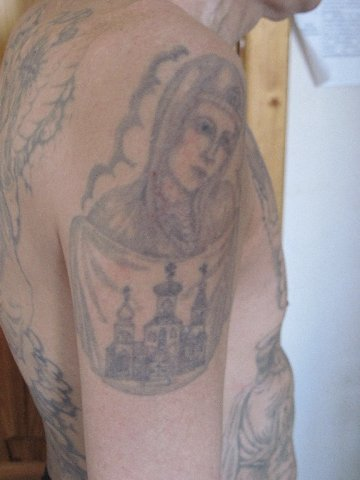tatu2_bogorodica: (113, 51, 248, 260)
